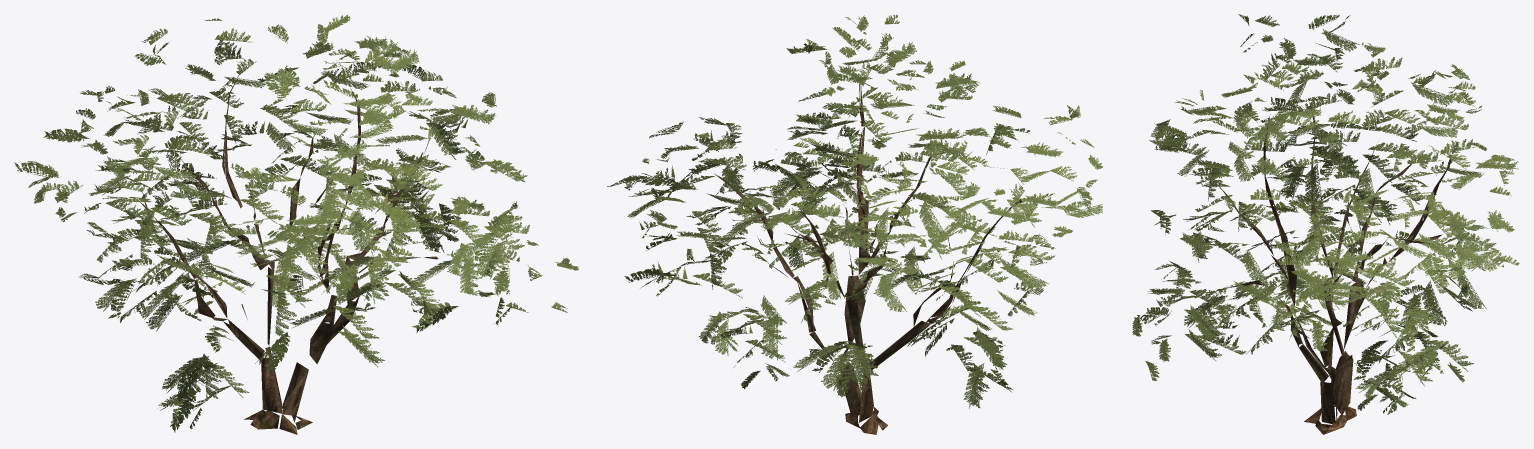
Rendered from veg-tree-jacaranda-lod1-7c716260c60e.glb.
3 views of the same model, side by side, from view 1: azimuth 30°, elevation 25°; view 2: azimuth 150°, elevation 25°; view 3: azimuth 270°, elevation 25° (orthographic). The views are drawn at different scales.
Visible parts, largest first — view 1: veg-tree-jacaranda_lod1; view 2: veg-tree-jacaranda_lod1; view 3: veg-tree-jacaranda_lod1.
Part boxes in pixels (x1,y1,x2,y2): veg-tree-jacaranda_lod1: (14, 15, 578, 434); veg-tree-jacaranda_lod1: (607, 14, 1102, 434); veg-tree-jacaranda_lod1: (1132, 14, 1519, 434).
Size of the model in its own units: 11.69 by 9.5 by 8.85.
Materials: 3 (3 with a texture image).
